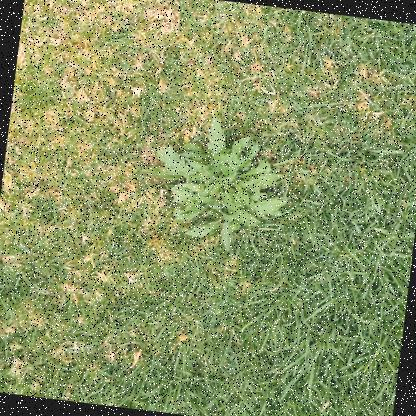Weeds: (138, 109, 297, 261)
